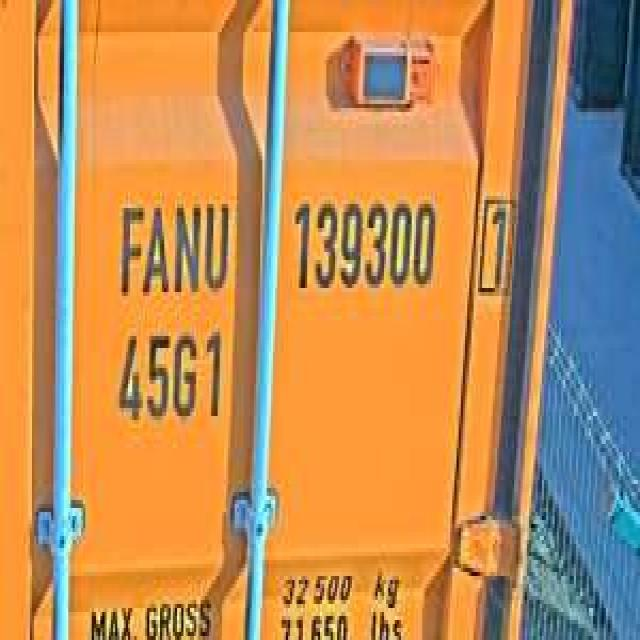dv: (472, 180, 518, 307)
owner: (111, 192, 235, 304)
serial: (288, 188, 437, 296)
size: (111, 320, 228, 432)
